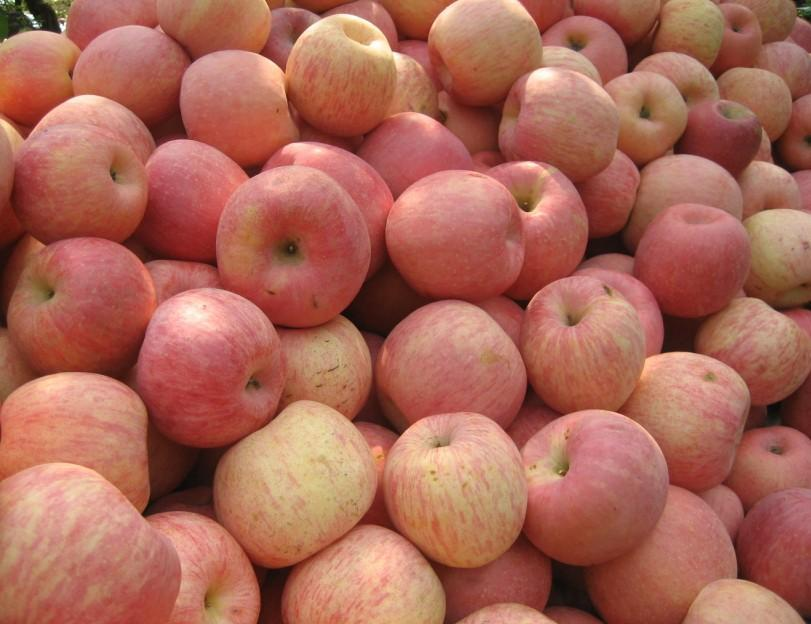apple: (1, 465, 185, 623), (212, 398, 380, 567), (132, 284, 288, 452), (214, 168, 370, 327), (518, 409, 668, 566), (383, 411, 528, 569), (582, 485, 737, 623), (2, 370, 156, 507), (373, 297, 529, 431), (7, 234, 156, 374), (616, 352, 751, 493), (382, 170, 525, 297), (519, 277, 646, 411), (14, 121, 148, 246), (278, 525, 444, 624), (133, 138, 251, 264), (482, 162, 589, 299), (284, 13, 396, 143), (179, 50, 303, 167), (142, 509, 263, 624), (498, 68, 620, 181), (635, 203, 750, 317), (695, 297, 810, 405), (429, 1, 546, 106), (72, 23, 190, 125), (268, 315, 374, 422), (623, 154, 742, 248), (352, 112, 476, 202), (735, 490, 811, 624), (605, 71, 688, 166), (2, 31, 83, 124), (725, 424, 811, 508), (673, 99, 763, 176), (741, 209, 811, 306), (537, 13, 627, 84), (714, 66, 791, 145), (636, 50, 719, 114), (649, 1, 722, 67)
